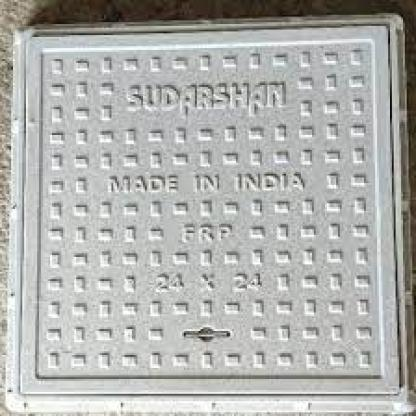closed manhole-not overflowing-: (13, 21, 414, 409)
